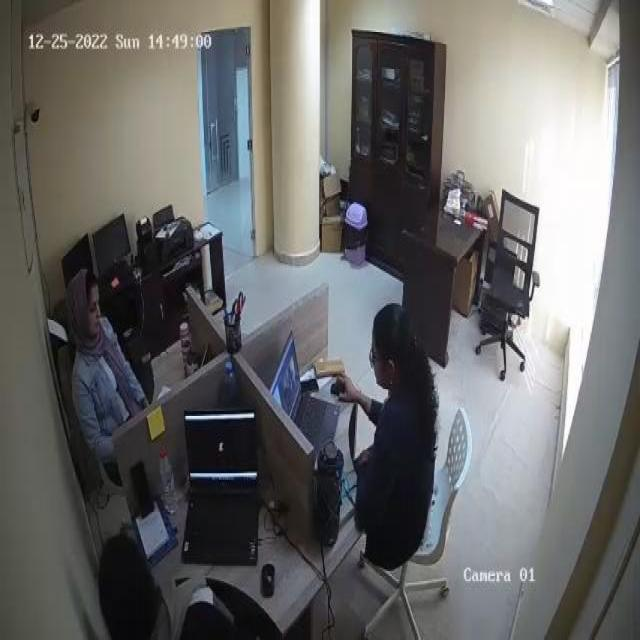bare_hand: (330, 367, 366, 416)
